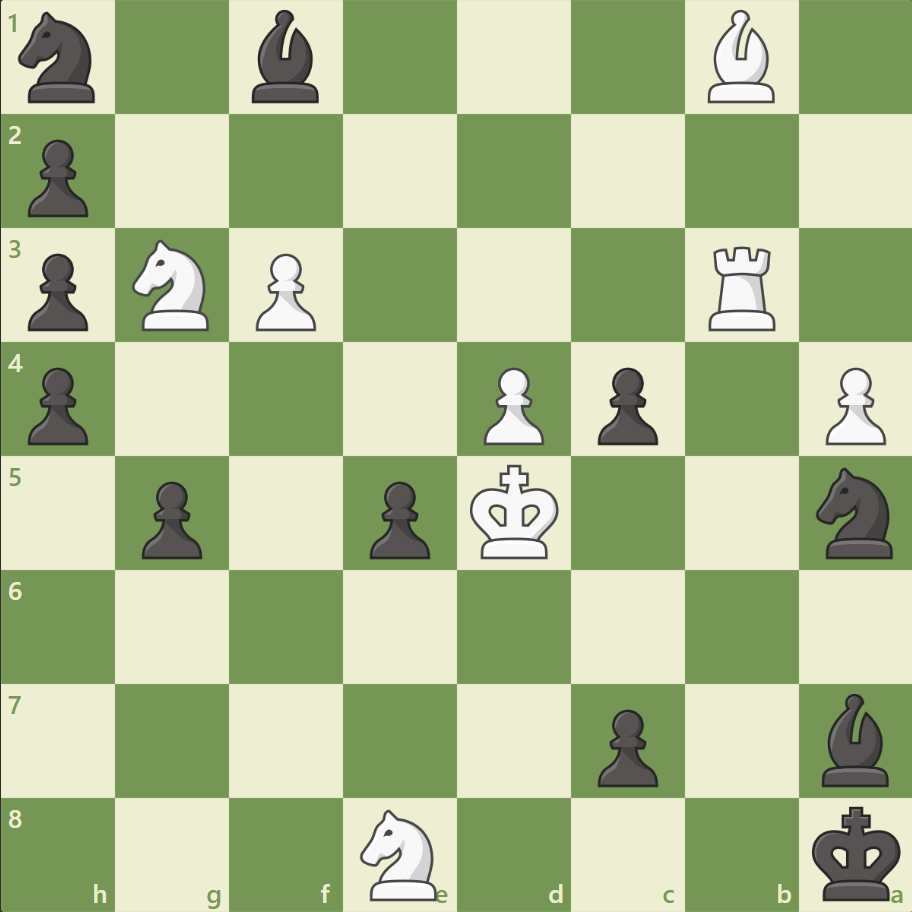B: (698, 6, 782, 109)
K: (465, 458, 565, 566)
N: (124, 234, 222, 337), (351, 802, 449, 904)
P: (474, 359, 549, 450), (247, 246, 322, 337), (815, 359, 889, 450)
R: (700, 239, 783, 336)
b: (812, 687, 896, 790), (244, 6, 328, 109)
k: (806, 798, 906, 906)
n: (806, 461, 903, 564), (11, 7, 108, 110)
p: (133, 473, 208, 564), (20, 359, 95, 450), (20, 246, 95, 337), (20, 132, 95, 223), (588, 700, 662, 791), (361, 473, 435, 564), (588, 359, 662, 450)
